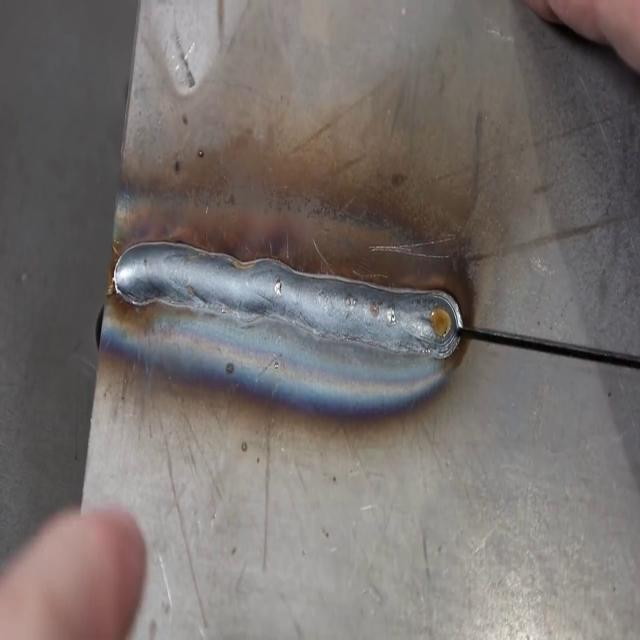Good Weld: (112, 240, 464, 358)
